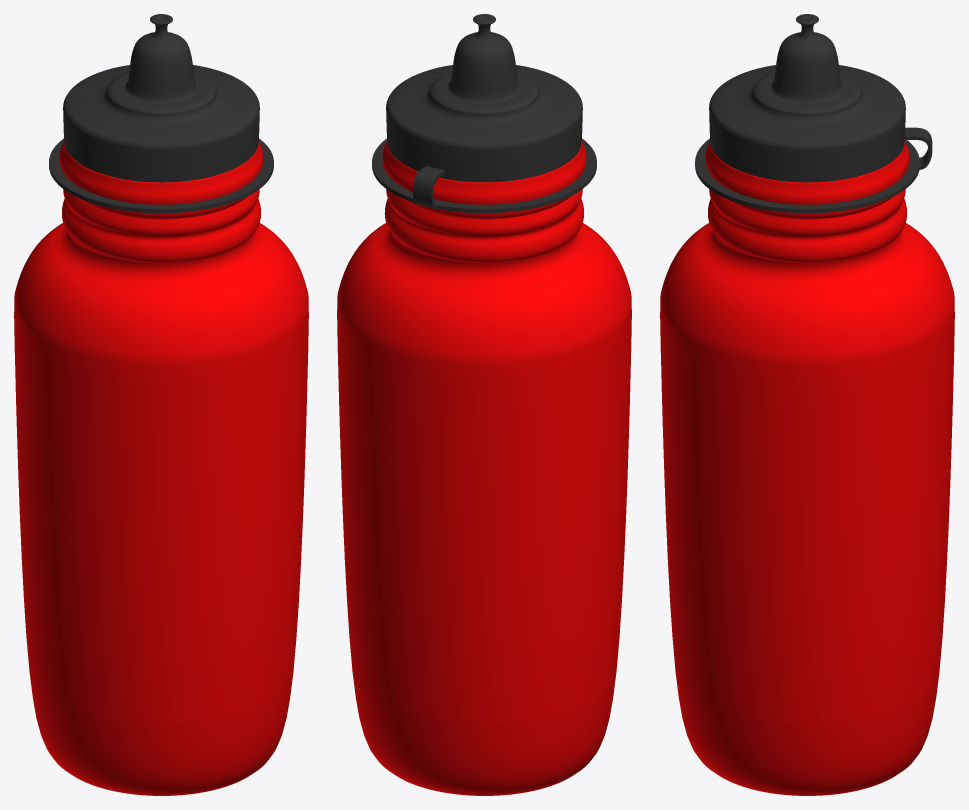
The picture shows the model from 3 angles, left to right: view 1: azimuth 30°, elevation 25°; view 2: azimuth 150°, elevation 25°; view 3: azimuth 270°, elevation 25°; orthographic projection.
Parts seen in each view (by area): view 1: Water_Bottle; view 2: Water_Bottle; view 3: Water_Bottle.
Part boxes in pixels (x1,y1,x2,y2): Water_Bottle: (14,14,308,795); Water_Bottle: (337,14,631,795); Water_Bottle: (660,14,954,795).
Size of the model in its own units: 2.68 by 7.43 by 2.68.
